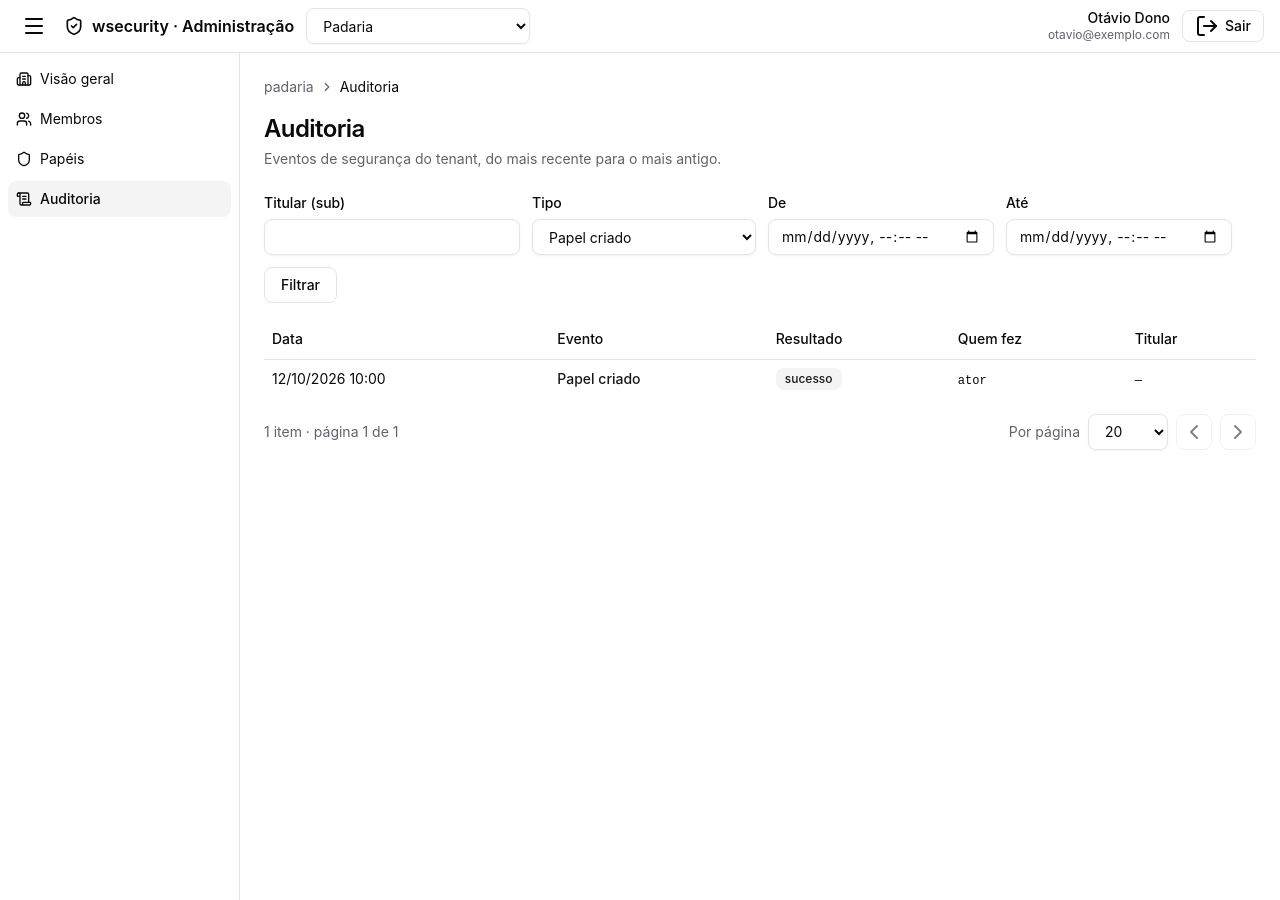
auditoria do tenant › leva titular, tipo e período para a URL e para a API
Expected: the button "Papel criado" is shown, [557,368,640,388]
Type "sub-1" into the field labelled "Titular (sub)" at (392, 237), box [264,219,520,255]
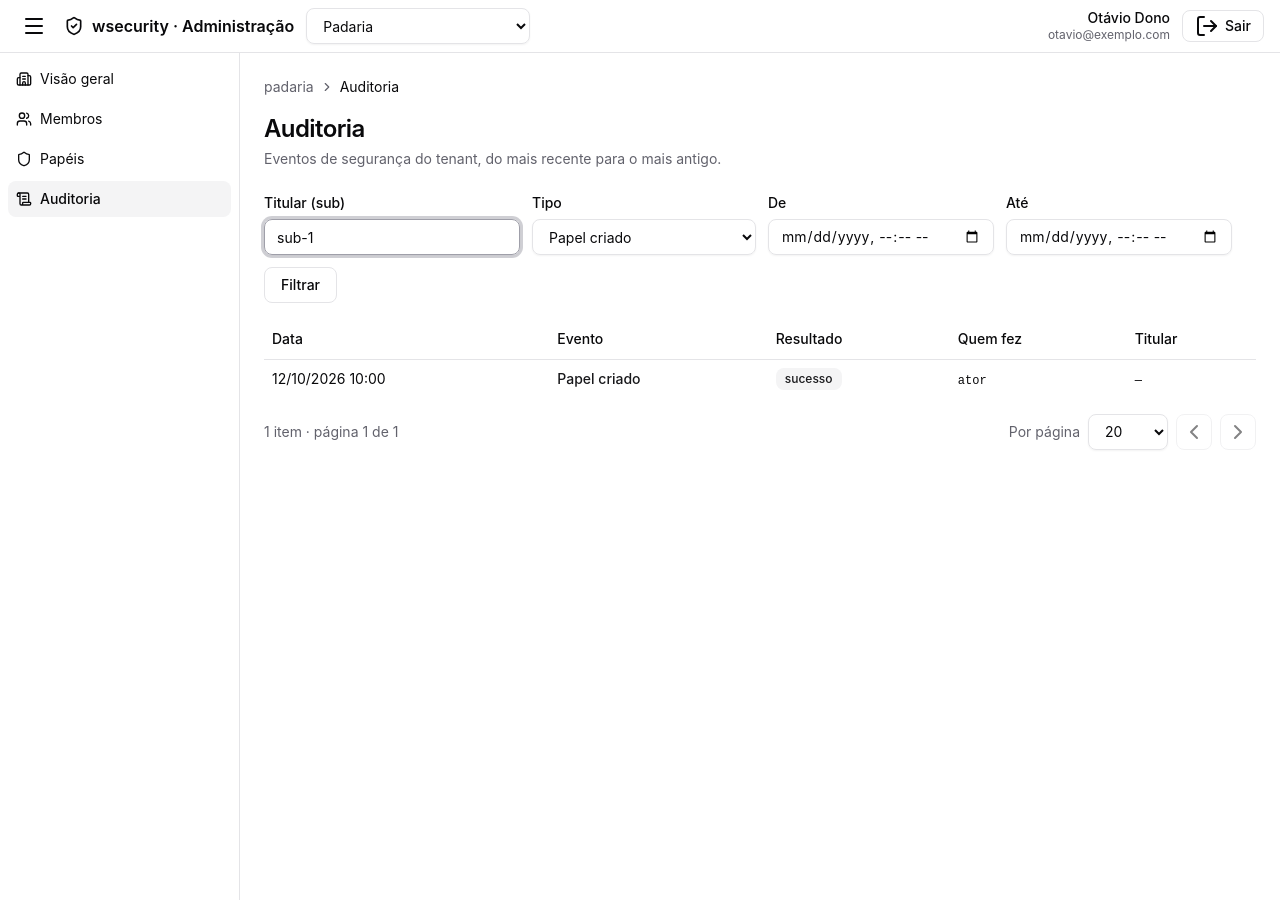
Type "2026-10-01T00:00" into the field labelled "De" at (881, 237), box [768,219,994,255]
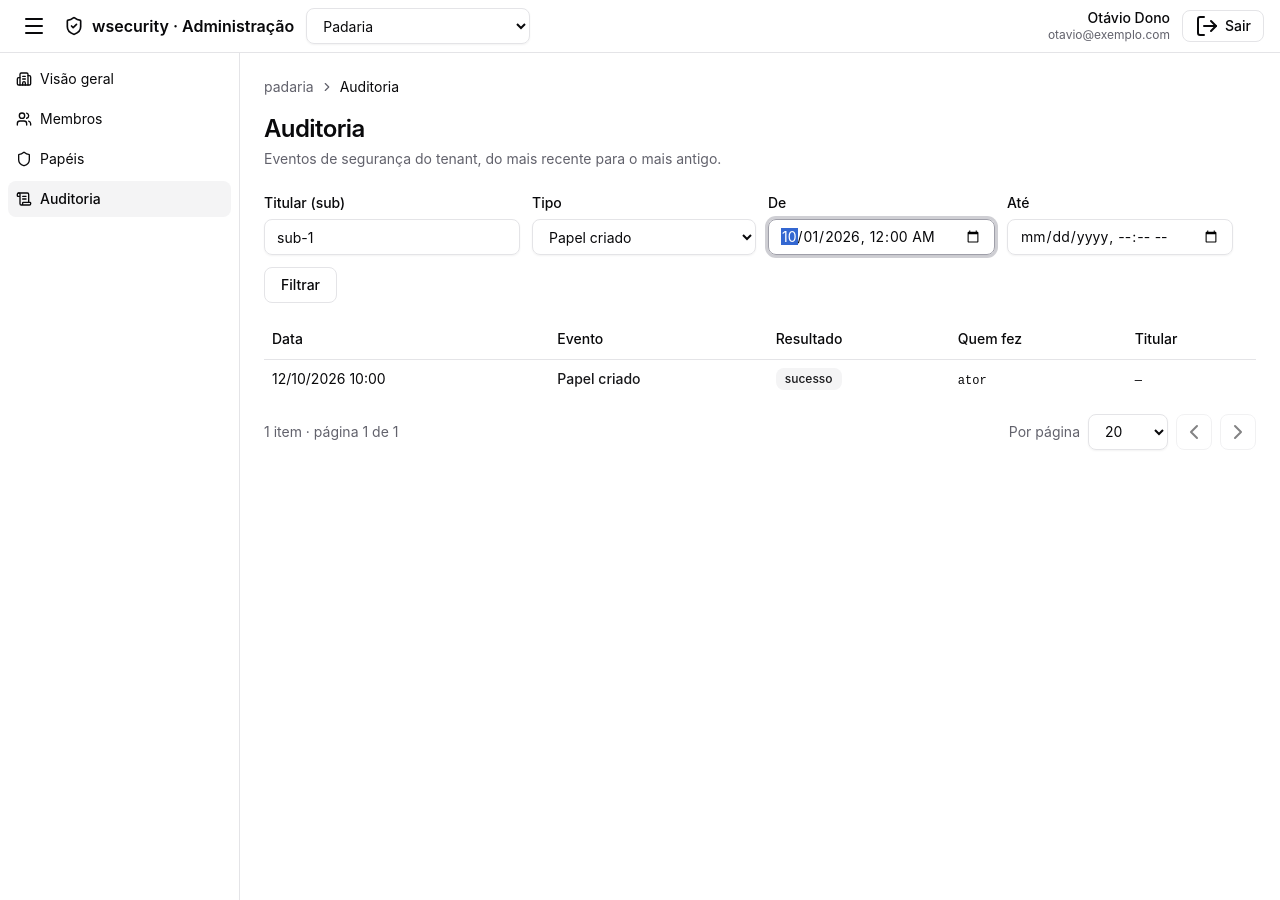
Click the button "Filtrar" at (300, 285), box [264,267,337,303]
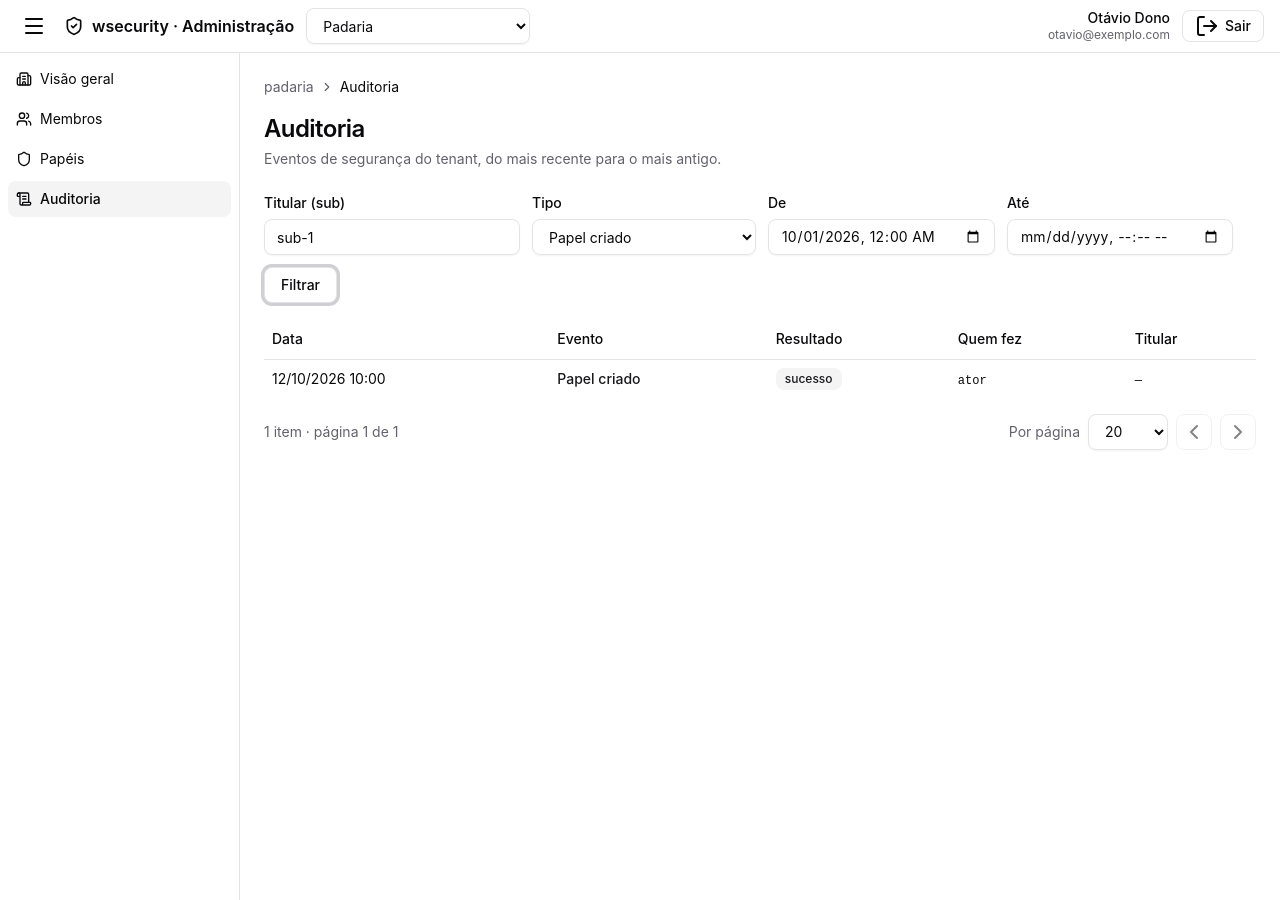
Click the button "Papel criado" at (599, 378), box [557,368,640,388]
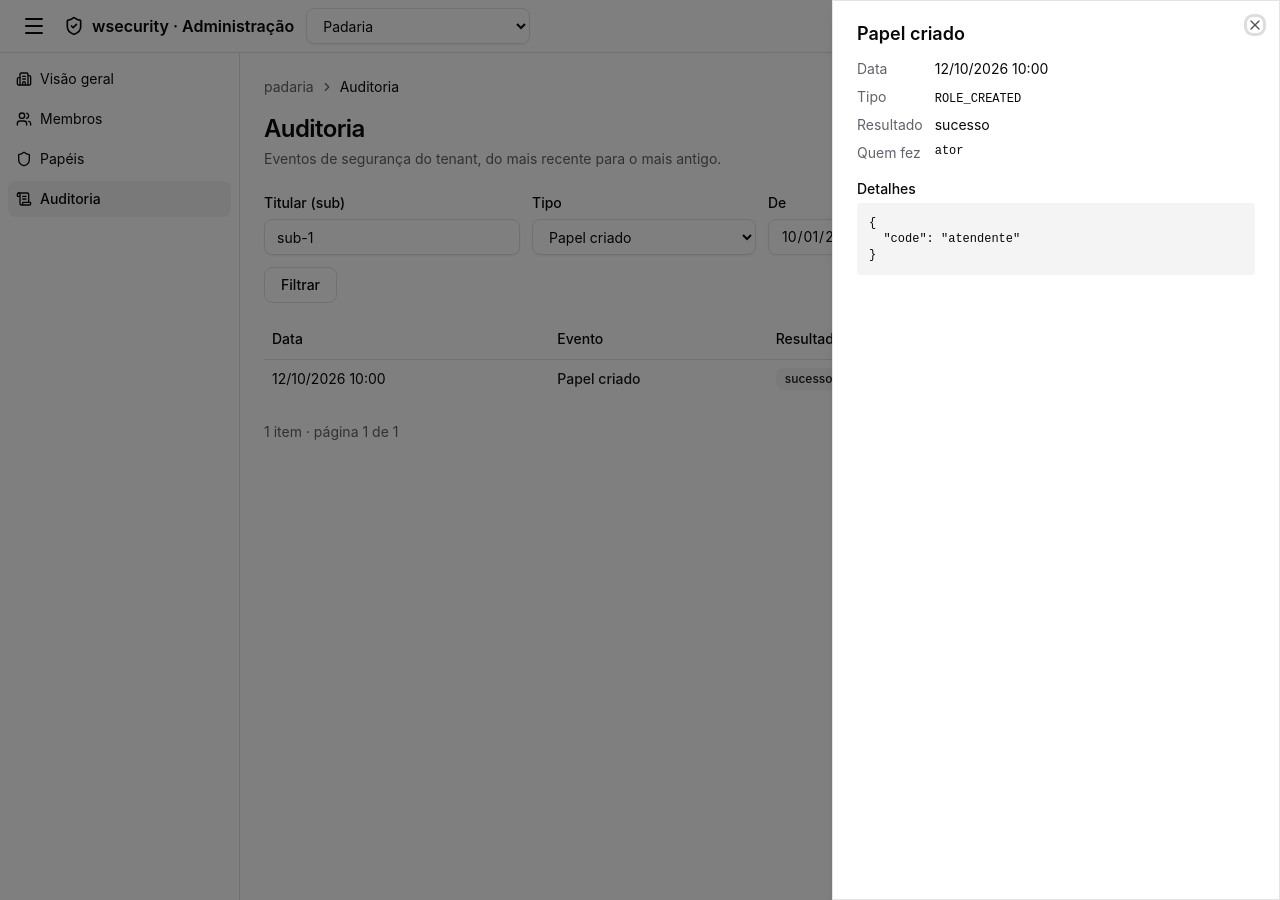
Now the text "{ \"code\": \"atendente\" }" is shown, box [857,203,1255,275]
